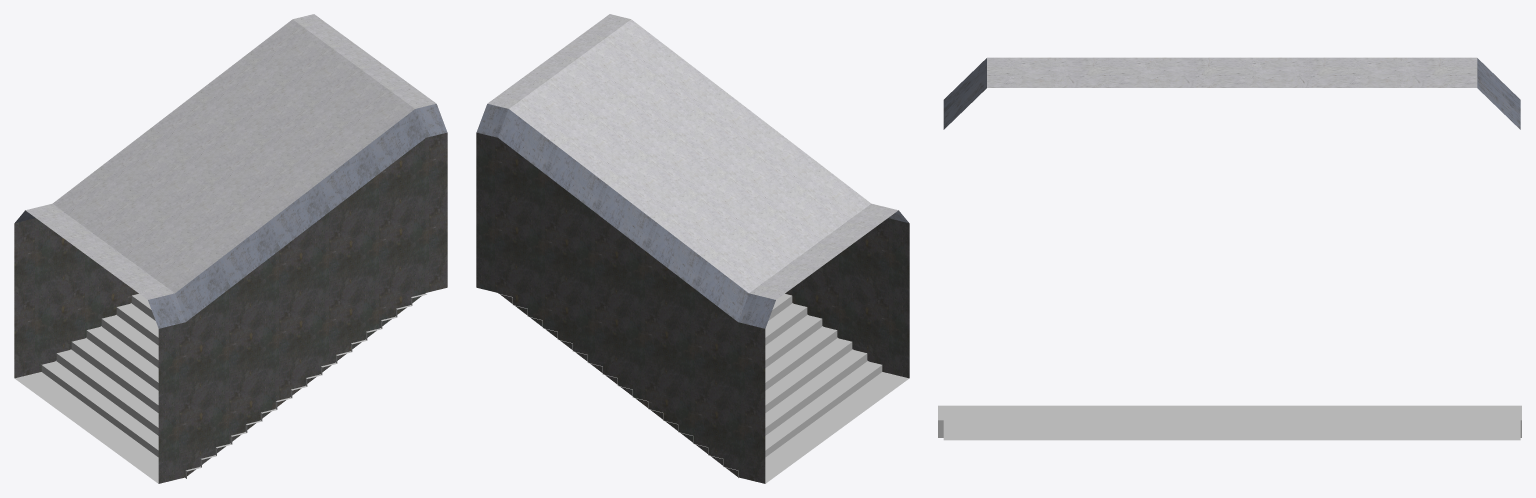
Rendered from starship_stair.FBX.
The picture shows the model from 3 angles, left to right: view 1: azimuth 30°, elevation 25°; view 2: azimuth 150°, elevation 25°; view 3: azimuth 270°, elevation 25°; orthographic projection. The views are drawn at different scales.
Visible parts, largest first — view 1: Stair; view 2: Stair; view 3: Stair.
Part boxes in pixels (x1,y1,x2,y2): Stair: [14, 14, 447, 483]; Stair: [476, 14, 909, 483]; Stair: [938, 57, 1521, 440].
Bounding box in the file's own units: 2.82 × 2.82 × 2.46.
